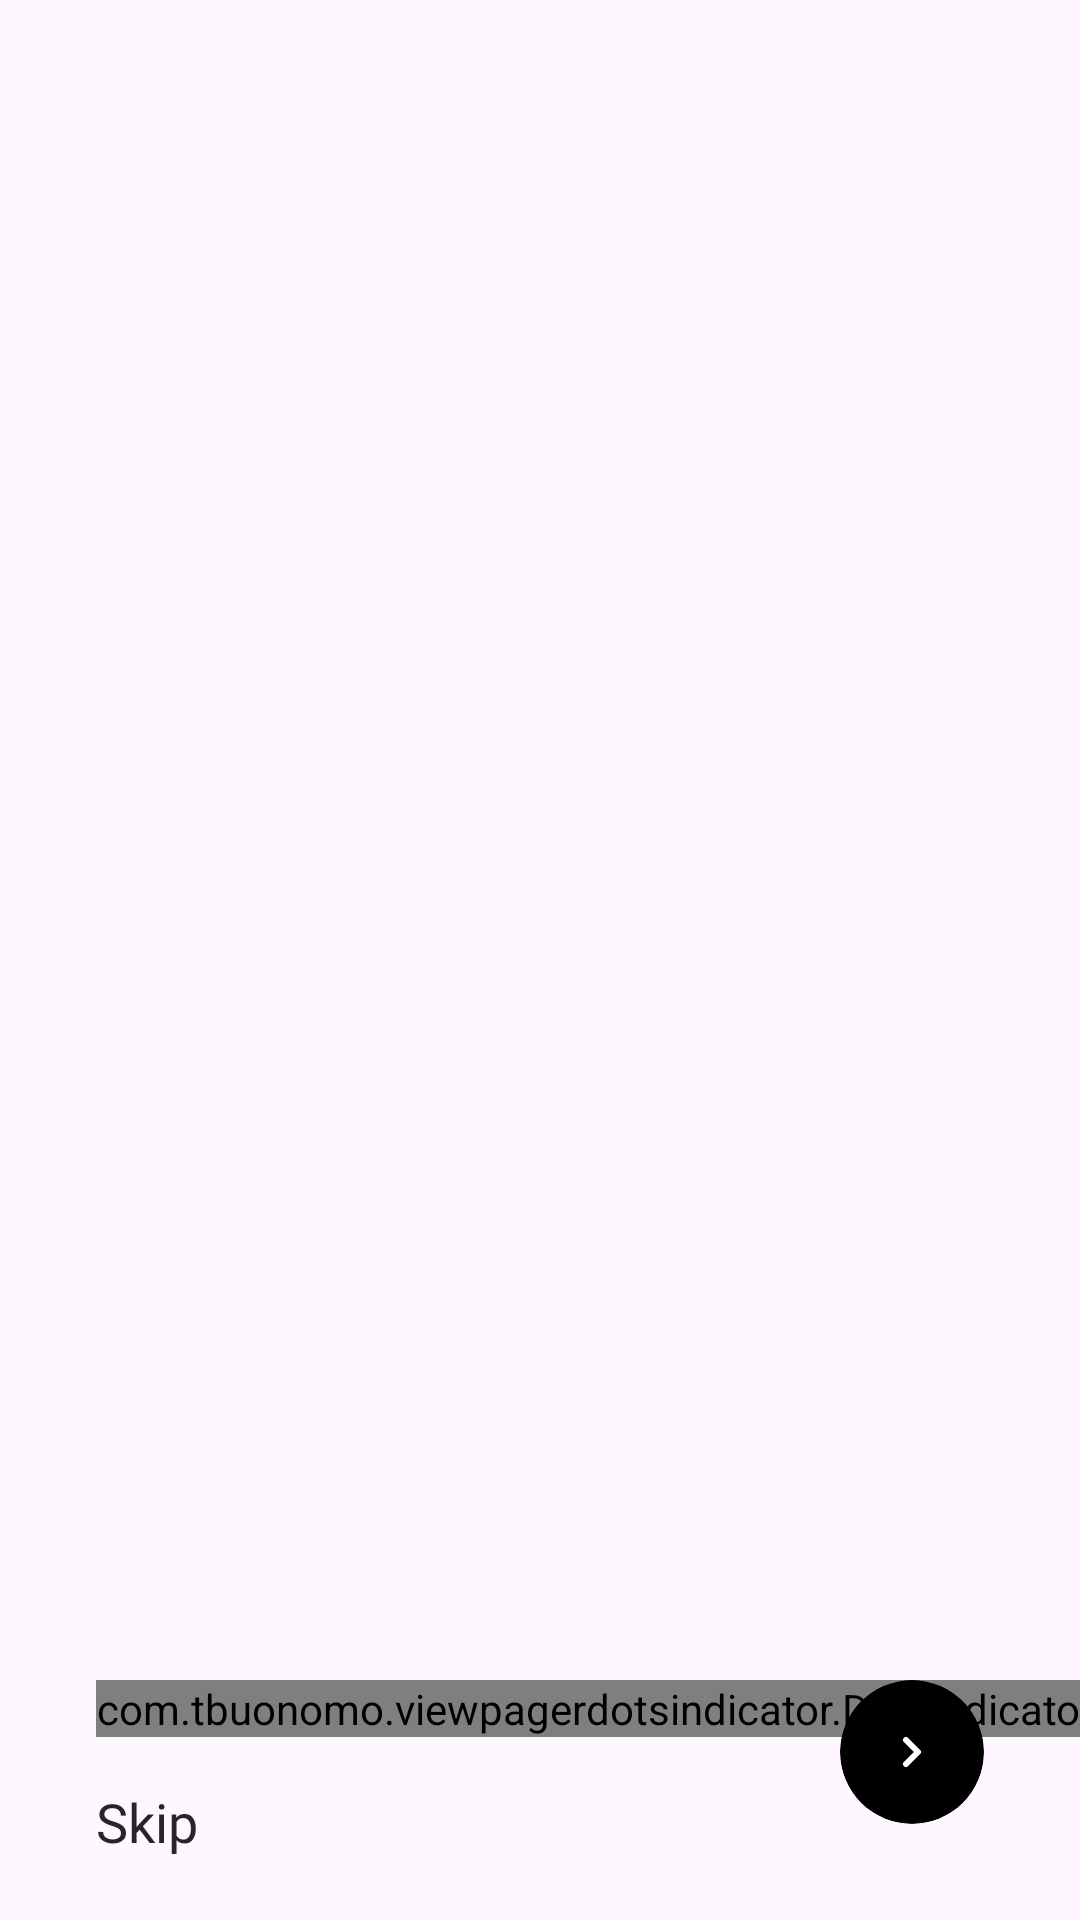

Screen size 1080 × 1920. Icon name, then its center in pixels as (x=x, y=y):
Next: (x=912, y=1752)
